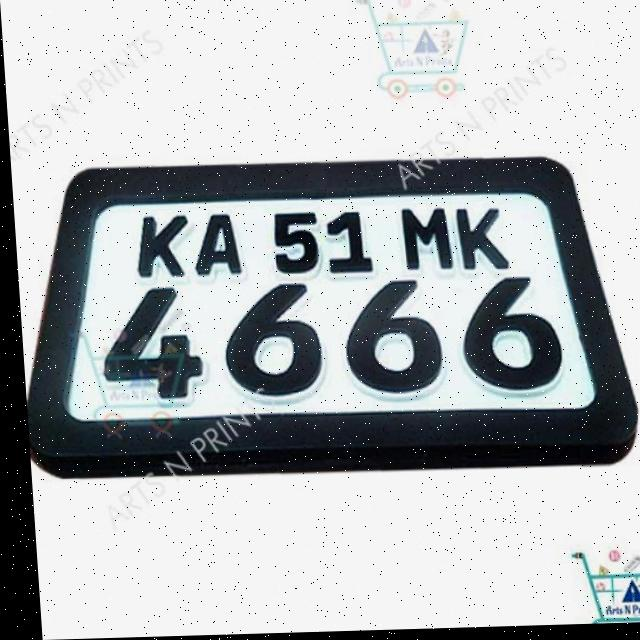plate: (9, 156, 638, 487)
